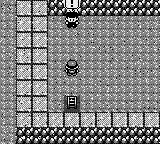main: (64, 60, 80, 76)
no-caminable: (17, 0, 159, 128), (17, 128, 159, 143), (48, 0, 159, 16)
npc: (64, 13, 80, 28)
puerta: (66, 96, 78, 108)
